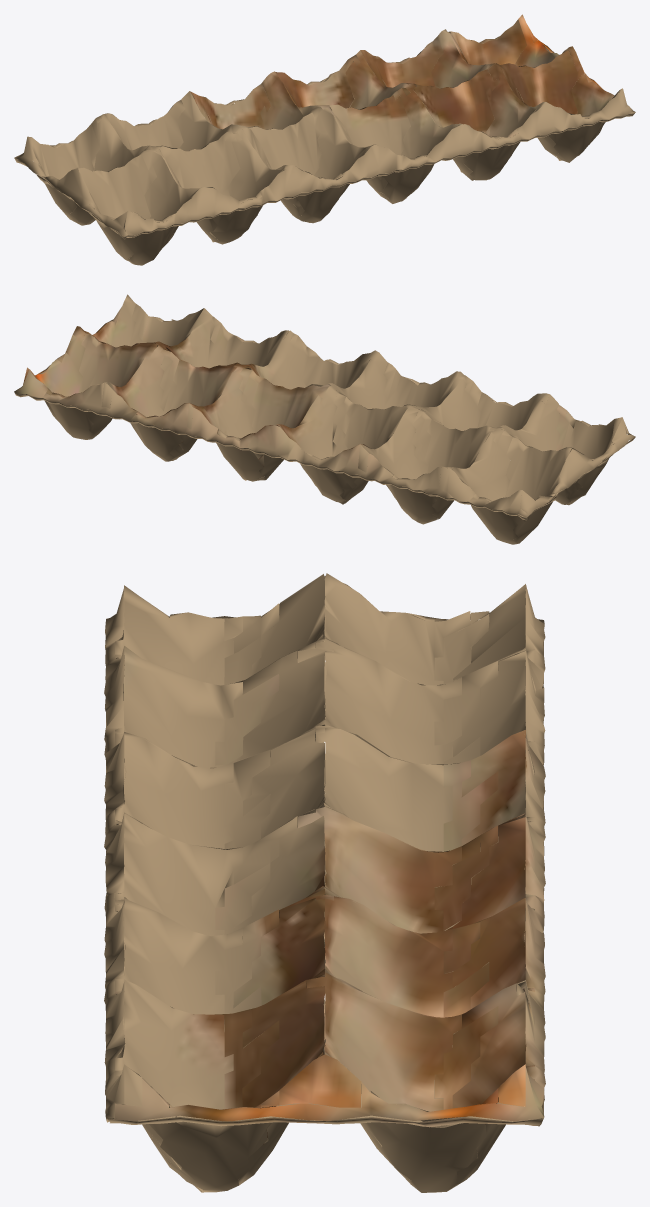
3 renders of one model, top to bottom at view 1: azimuth 30°, elevation 25°; view 2: azimuth 150°, elevation 25°; view 3: azimuth 270°, elevation 25°, orthographic. The views are drawn at different scales.
Visible parts, largest first — view 1: continuous pressed pulp web; view 2: continuous pressed pulp web; view 3: continuous pressed pulp web.
Boxes of the visible parts, left/top/right/bottom form: continuous pressed pulp web: left=14, top=14, right=635, bottom=265; continuous pressed pulp web: left=14, top=294, right=635, bottom=544; continuous pressed pulp web: left=104, top=573, right=545, bottom=1192.
Bounding box in the file's own units: 0.2552 × 0.0419 × 0.0951.
1 material, 1 textured.
